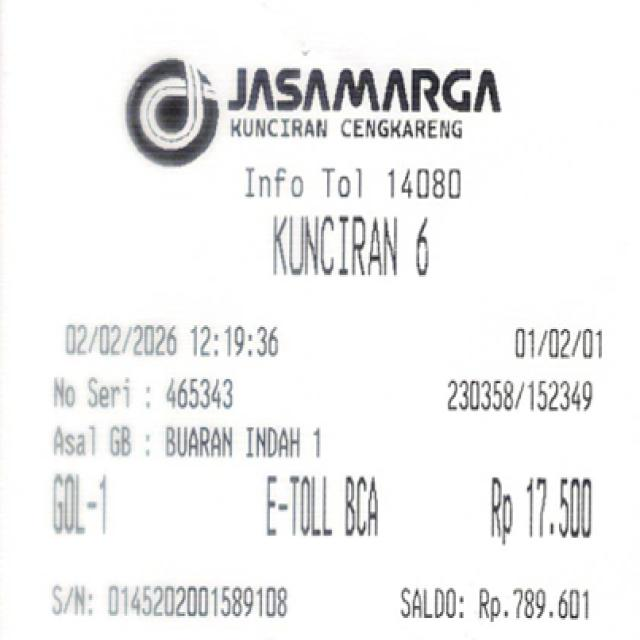date: (37, 306, 290, 374)
store: (223, 64, 506, 147)
total: (471, 470, 608, 556)
